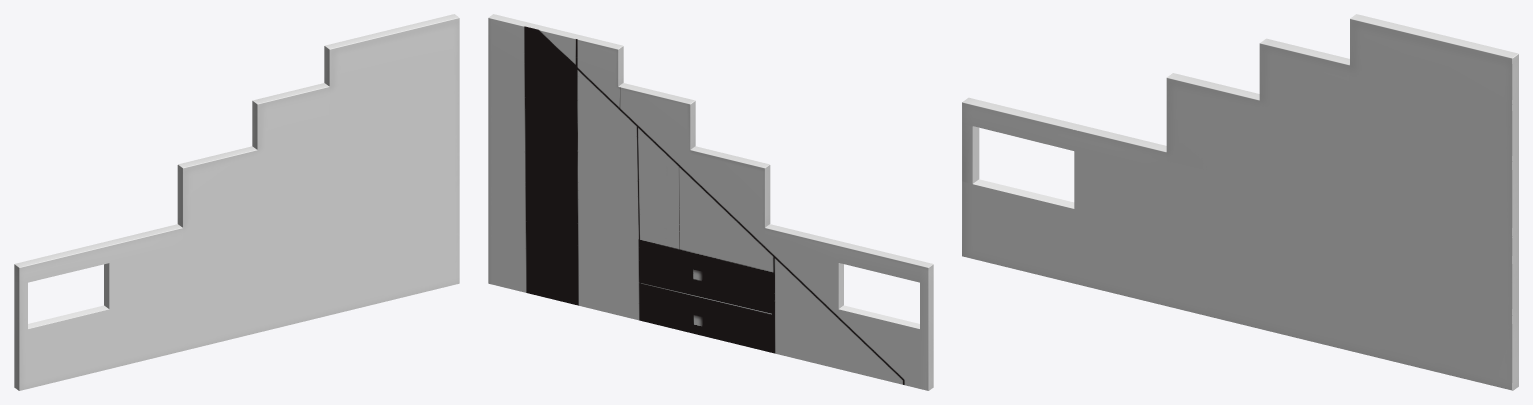
File: staircase_wall.fbx
3 renders of one model, left to right at view 1: azimuth 30°, elevation 25°; view 2: azimuth 150°, elevation 25°; view 3: azimuth 330°, elevation 25°, orthographic. The views are drawn at different scales.
Parts seen in each view (by area): view 1: staircase_wall; view 2: staircase_wall; view 3: staircase_wall.
Part boxes in pixels (<box>): staircase_wall: <box>14,14,459,390</box>; staircase_wall: <box>488,14,933,390</box>; staircase_wall: <box>962,14,1518,390</box>.
Bounding box in the file's own units: 336 × 194 × 7.03.
Materials: 1 (1 with a texture image).
